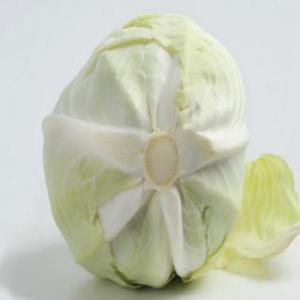cabbage: (41, 8, 253, 294)
